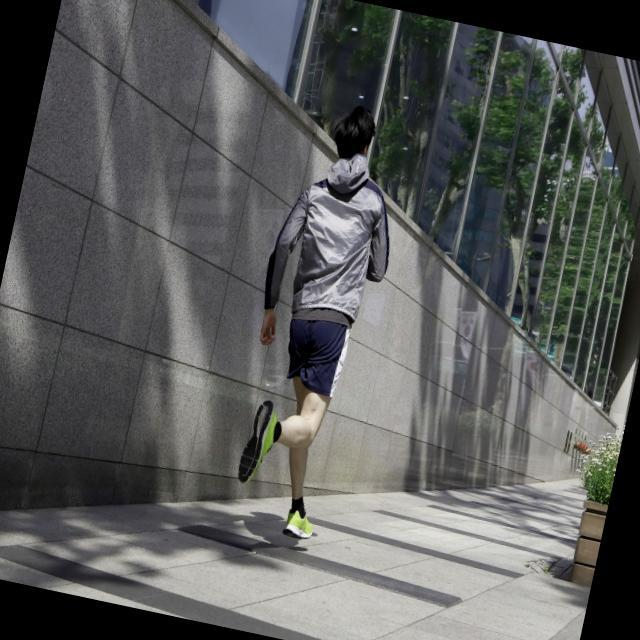person: (209, 85, 424, 554)
